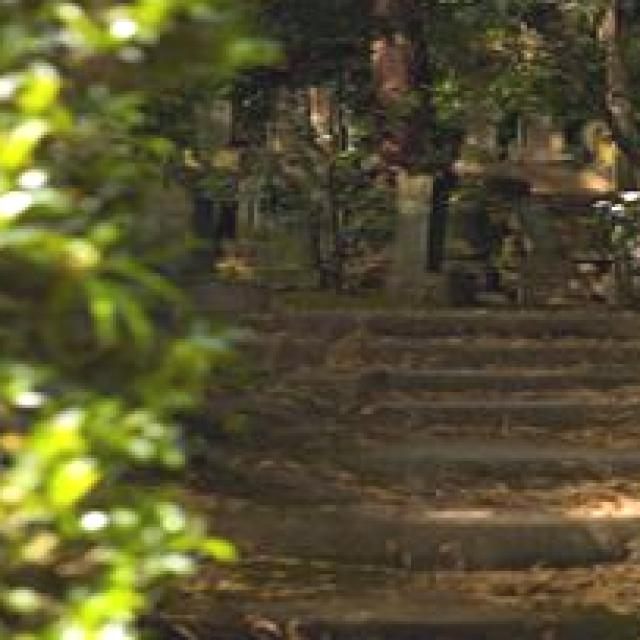upstair: (189, 280, 635, 632)
